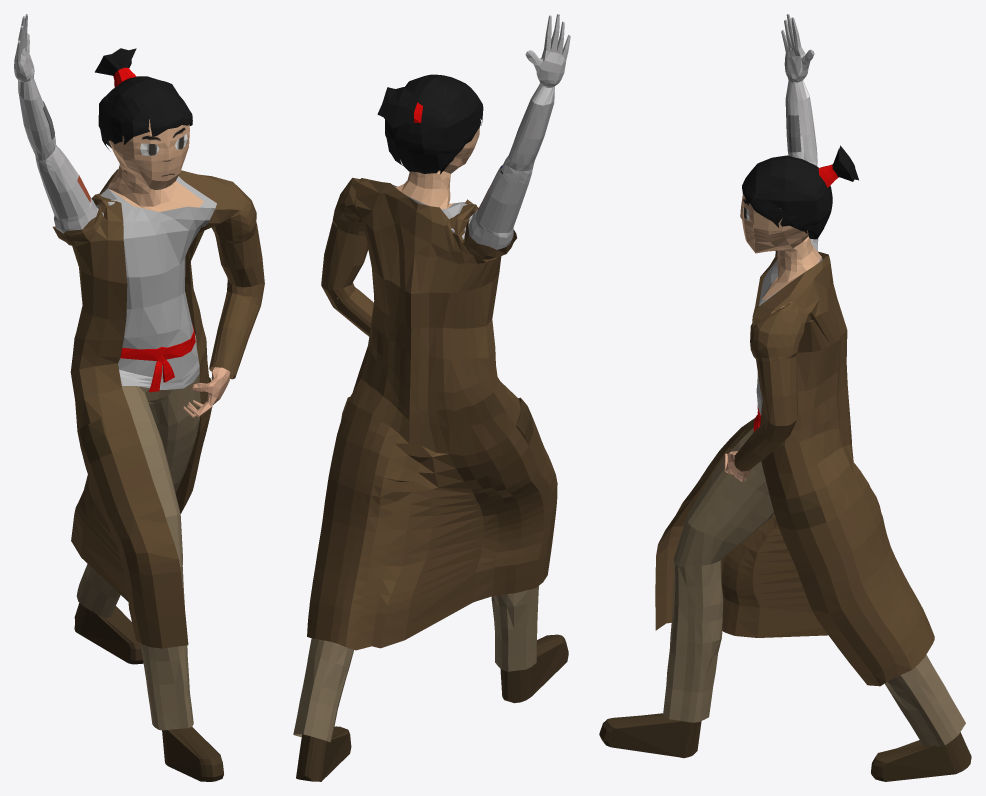
Rendered from Special_Attack_000026.obj.
The picture shows the model from 3 angles, left to right: view 1: azimuth 30°, elevation 25°; view 2: azimuth 150°, elevation 25°; view 3: azimuth 270°, elevation 25°; orthographic projection. The views are drawn at different scales.
Visible parts, largest first — view 1: Hair_Cube.004; view 2: Hair_Cube.004; view 3: Hair_Cube.004.
Boxes of the visible parts, x1,y1,x2,y2 form: Hair_Cube.004: (14, 14, 264, 781); Hair_Cube.004: (293, 14, 570, 781); Hair_Cube.004: (599, 14, 971, 781).
Size of the model in its own units: 1.49 by 4.3 by 2.09.
